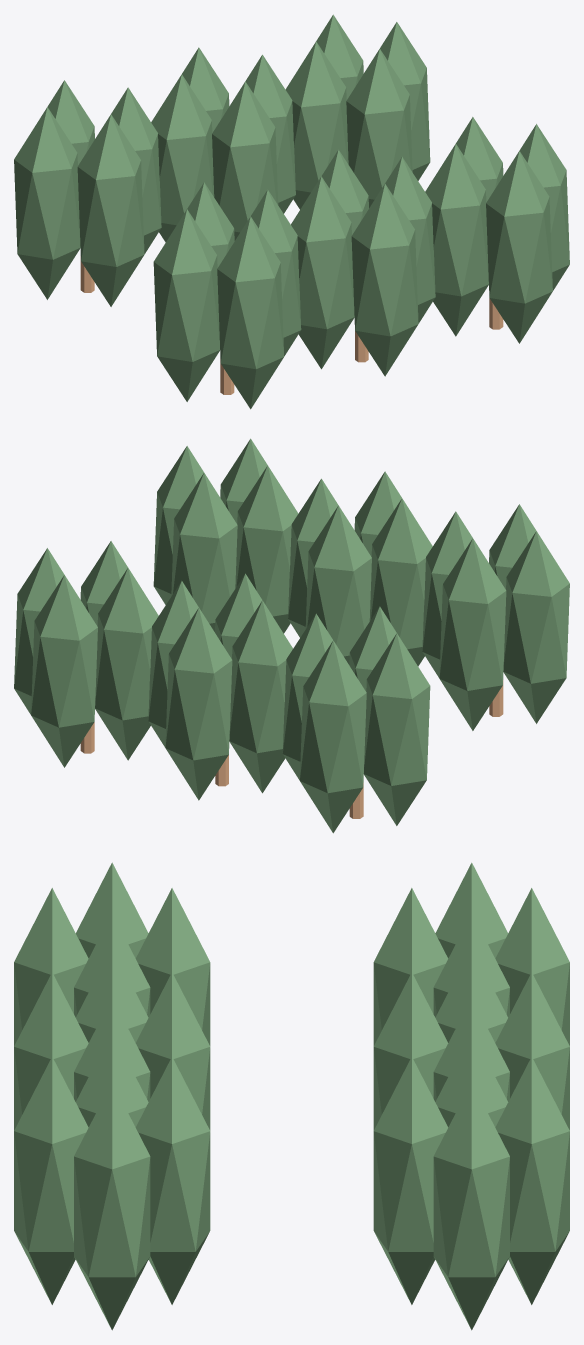
3 renders of one model, top to bottom at view 1: azimuth 30°, elevation 25°; view 2: azimuth 150°, elevation 25°; view 3: azimuth 270°, elevation 25°, orthographic. The views are drawn at different scales.
Parts seen in each view (by area): view 1: Leaf.011, Leaf.007, Leaf.019, Leaf.003, Leaf.002, Leaf.006, Leaf.018, Leaf.010, Leaf.023, Leaf.015, Leaf.022, Leaf.014 (+12 smaller); view 2: Leaf.013, Leaf.001, Leaf.021, Leaf.005, Leaf.006, Leaf.002, Leaf.022, Leaf.014, Leaf.017, Leaf.009, Leaf.018, Leaf.010 (+12 smaller); view 3: Leaf.016, Leaf.020, Leaf.017, Leaf.023, Leaf.019, Leaf.021, Leaf.001, Leaf.007, Leaf.009, Leaf.015, Leaf.011, Leaf.013 (+12 smaller).
Boxes of the visible parts, <box> form: Leaf.011: <box>351,184,418,376</box>; Leaf.007: <box>77,114,144,306</box>; Leaf.019: <box>486,151,552,343</box>; Leaf.003: <box>217,216,284,409</box>; Leaf.002: <box>153,209,219,401</box>; Leaf.006: <box>14,107,80,299</box>; Leaf.018: <box>425,144,488,336</box>; Leaf.010: <box>291,176,354,369</box>; Leaf.023: <box>346,48,412,207</box>; Leaf.015: <box>212,81,278,240</box>; Leaf.022: <box>285,41,348,209</box>; Leaf.014: <box>151,74,214,242</box>; Leaf.013: <box>165,608,232,800</box>; Leaf.001: <box>439,538,506,730</box>; Leaf.021: <box>31,575,97,767</box>; Leaf.005: <box>299,640,366,833</box>; Leaf.006: <box>364,633,430,825</box>; Leaf.002: <box>503,531,569,723</box>; Leaf.022: <box>95,568,158,760</box>; Leaf.014: <box>229,600,292,793</box>; Leaf.017: <box>171,472,237,631</box>; Leaf.009: <box>305,505,371,664</box>; Leaf.018: <box>235,465,298,633</box>; Leaf.010: <box>369,498,432,666</box>; Leaf.016: <box>74,1082,150,1330</box>; Leaf.020: <box>433,1082,509,1330</box>; Leaf.017: <box>135,1057,210,1304</box>; Leaf.023: <box>373,1057,448,1304</box>; Leaf.019: <box>14,1057,88,1304</box>; Leaf.021: <box>495,1057,569,1304</box>; Leaf.001: <box>135,888,210,1045</box>; Leaf.007: <box>373,888,448,1045</box>; Leaf.009: <box>135,972,210,1130</box>; Leaf.015: <box>373,972,448,1130</box>; Leaf.011: <box>14,972,88,1130</box>; Leaf.013: <box>495,972,569,1130</box>.
Bounding box in the file's own units: 0.6094 × 0.275 × 0.5566.
1 material, 1 textured.
